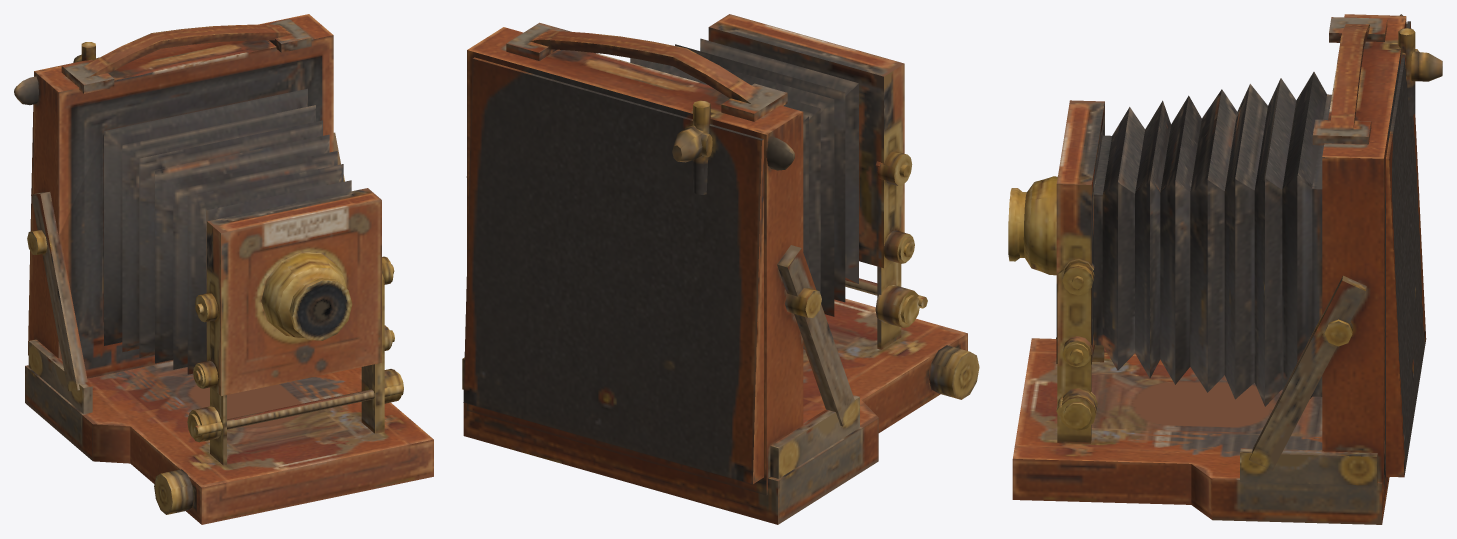
The model's file is PhotoCamera.fbx.
The picture shows the model from 3 angles, left to right: view 1: azimuth 30°, elevation 25°; view 2: azimuth 150°, elevation 25°; view 3: azimuth 270°, elevation 25°; orthographic projection. The views are drawn at different scales.
Parts seen in each view (by area): view 1: PhotoCamera_Low; view 2: PhotoCamera_Low; view 3: PhotoCamera_Low.
Boxes of the visible parts, bbox=[...] form: PhotoCamera_Low: bbox=[14, 14, 433, 524]; PhotoCamera_Low: bbox=[462, 14, 979, 524]; PhotoCamera_Low: bbox=[1008, 14, 1442, 524].
Size of the model in its own units: 0.8122 by 0.933 by 0.9301.
